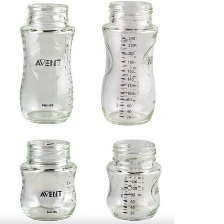bottle: (95, 0, 162, 131), (16, 0, 81, 129), (17, 136, 81, 223), (102, 136, 162, 221)
